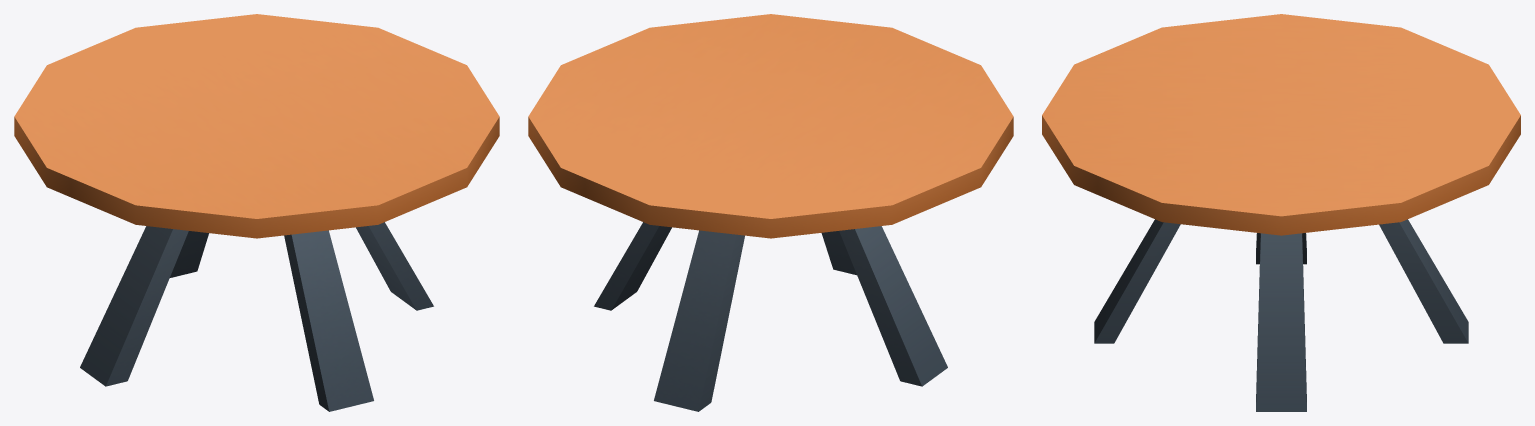
The model's file is Prop_Table01.fbx.
3 renders of one model, left to right at view 1: azimuth 30°, elevation 25°; view 2: azimuth 150°, elevation 25°; view 3: azimuth 270°, elevation 25°, orthographic.
Visible parts, largest first — view 1: Prop_Table01; view 2: Prop_Table01; view 3: Prop_Table01.
Part boxes in pixels (left/top/right/bottom): Prop_Table01: left=14, top=14, right=499, bottom=411; Prop_Table01: left=528, top=14, right=1013, bottom=411; Prop_Table01: left=1042, top=14, right=1520, bottom=411.
Size of the model in its own units: 408 by 205 by 408.
